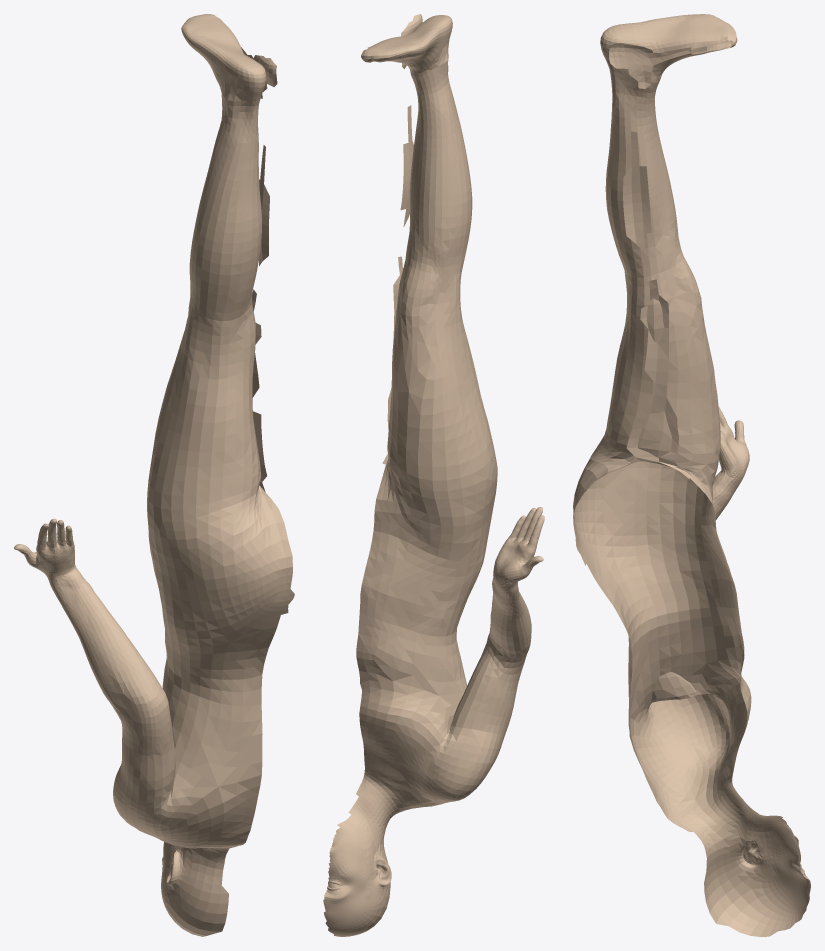
File: body_left_half.obj
3 views of the same model, side by side, from view 1: azimuth 30°, elevation 25°; view 2: azimuth 150°, elevation 25°; view 3: azimuth 270°, elevation 25° (orthographic). The views are drawn at different scales.
Visible parts, largest first — view 1: Half; view 2: Half; view 3: Half.
Part boxes in pixels (left/top/right/bottom): Half: left=14, top=14, right=294, bottom=936; Half: left=323, top=14, right=544, bottom=936; Half: left=573, top=14, right=810, bottom=936.
Bounding box in the file's own units: 0.3959 × 1.79 × 0.4273.
